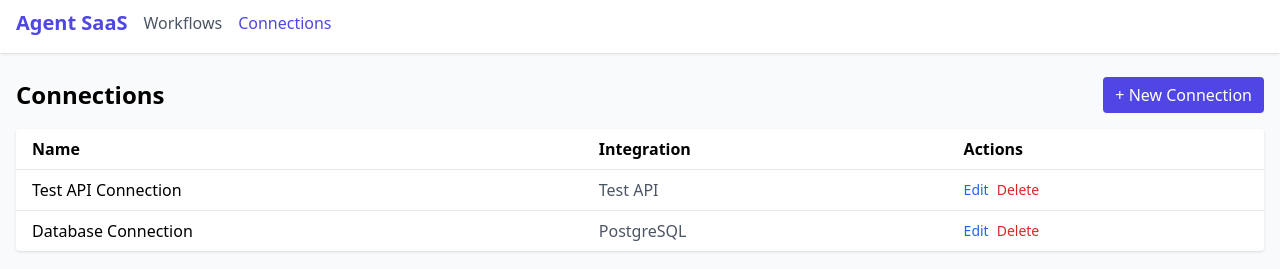
it: Connections Page - Realistic Tests › should delete a connection
Click the button "Delete" in the row of "Test API Connection": [1019, 190] box left=997, top=180, right=1040, bottom=200
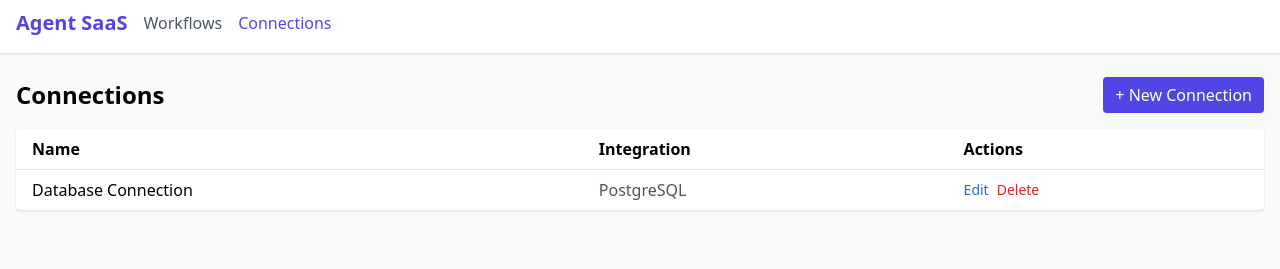
Expected: the text "Test API Connection" is gone
